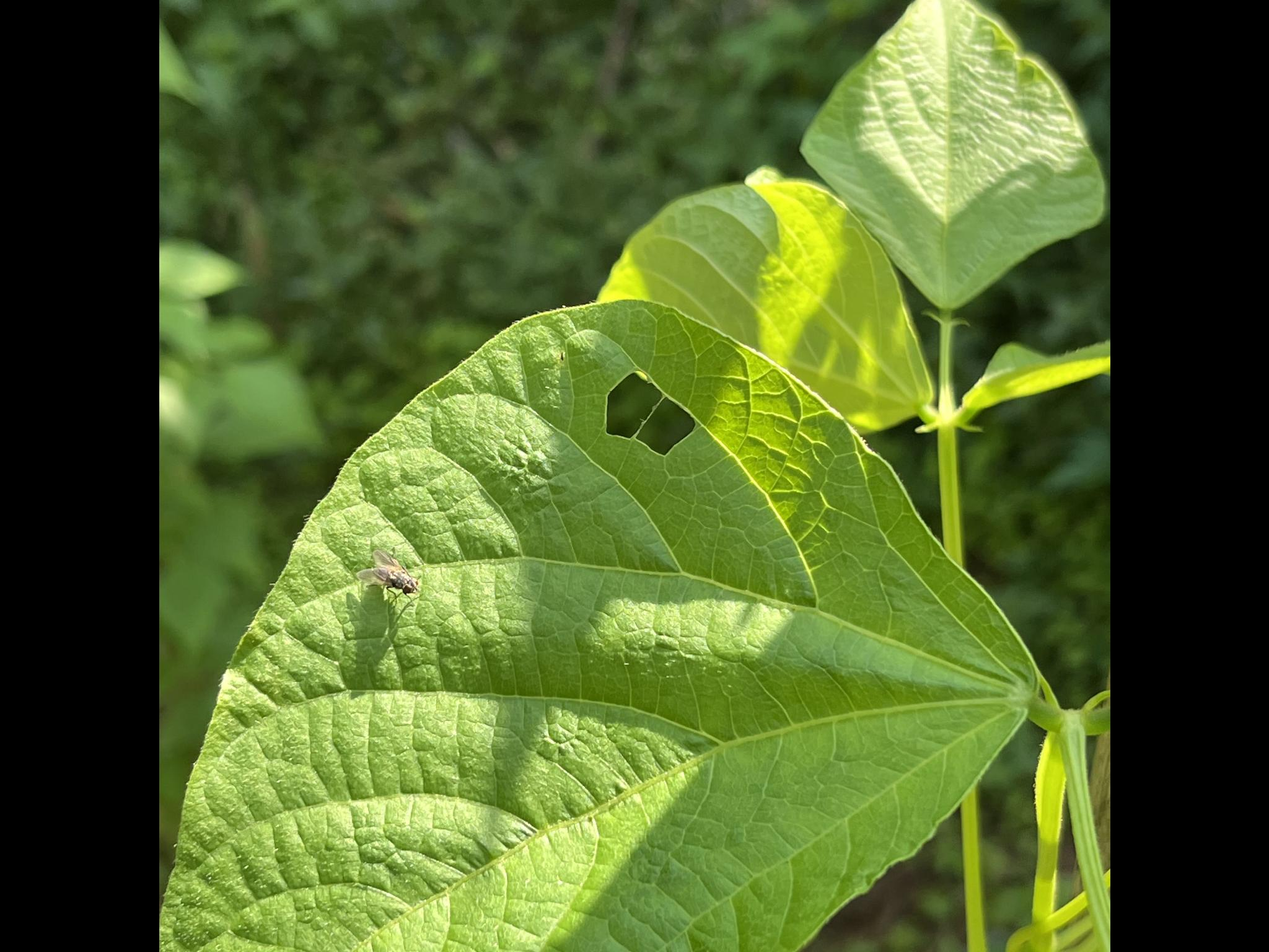mozaik: (593, 356, 712, 473)
